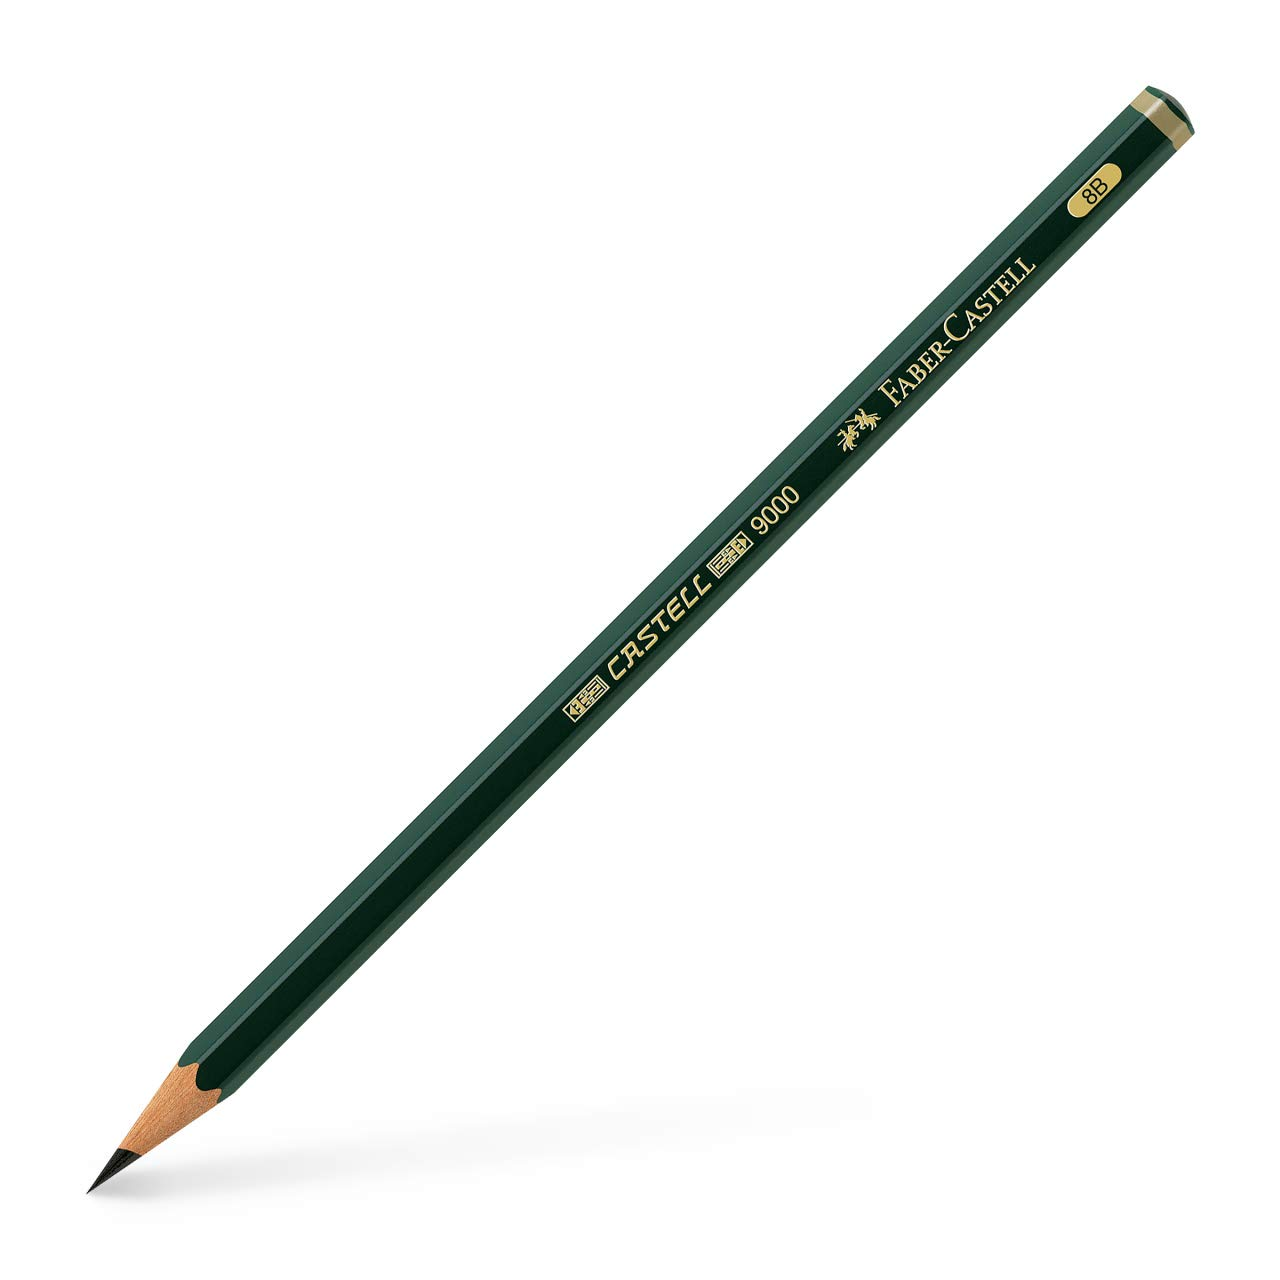pencil: (55, 38, 1211, 1213)
